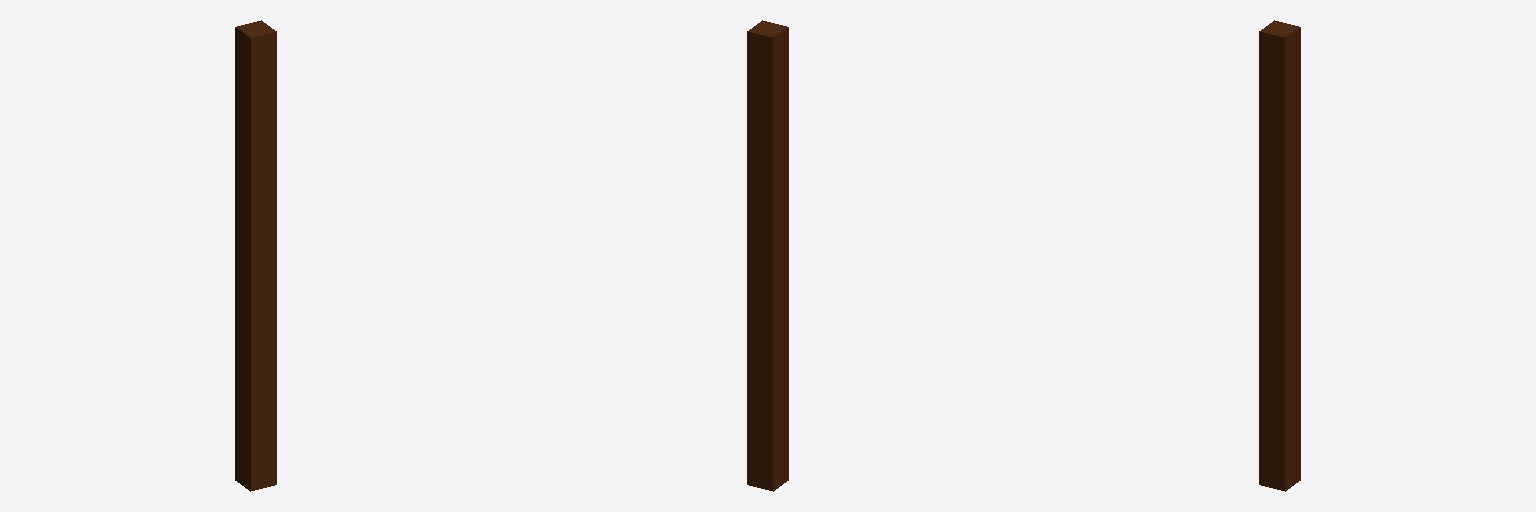
URDF robot description (tree_mid_slim):
<?xml version="1.0" ?>
<robot name="tree_mid_slim">
    <link name="block">
    <inertial>
      <origin xyz="0 0 0" rpy="0 0 0"/>
      <mass value="0.0"/>
      <inertia ixx="1" ixy="0" ixz="0" iyy="1" iyz="0" izz="1"/>
    </inertial>
    <!-- Visual representation of the cube (0.3m x 0.3m x 0.3m) -->
    <visual>
      <origin xyz="0 0 0" rpy="0 0 0"/>
      <geometry>
        <box size="0.3 0.3 5.0"/>
      </geometry>
      <material name="brown">
        <color rgba="0.35 0.20 0.10 1.0"/>
      </material>
    </visual>
    <!-- Collision representation of the cube (0.3m x 0.3m x 0.3m) -->
    <collision>
      <origin xyz="0 0 0" rpy="0 0 0"/>
      <geometry>
        <box size="0.3 0.3 5.0"/>
      </geometry>
    </collision>    
    <!-- Contact properties (optional, e.g., friction) --> 
    <contact>
      <lateral_friction value="1.0"/>
      <rolling_friction value="0.0"/>
      <restitution value="0.0"/>
    </contact>
  </link>
</robot>  

--- What the picture shows (computed from the rendered views, not written in the file) ---
Views: 3 orthographic renders of the robot side by side, from view 1: azimuth 30°, elevation 25°; view 2: azimuth 150°, elevation 25°; view 3: azimuth 330°, elevation 25°.
Model tree_mid_slim with 1 links and 0 joints (none), rooted at block, posed every joint at zero.
Links seen in each view (by area): view 1: block; view 2: block; view 3: block.
Boxes of the visible links, x1=… form: block: x1=235, y1=20, x2=276, y2=491; block: x1=747, y1=20, x2=788, y2=491; block: x1=1259, y1=20, x2=1300, y2=491.
Size in the robot's own frame: 0.3 by 0.3 by 5 metres.
Geometry: primitives only (box / cylinder / sphere), no mesh files.
